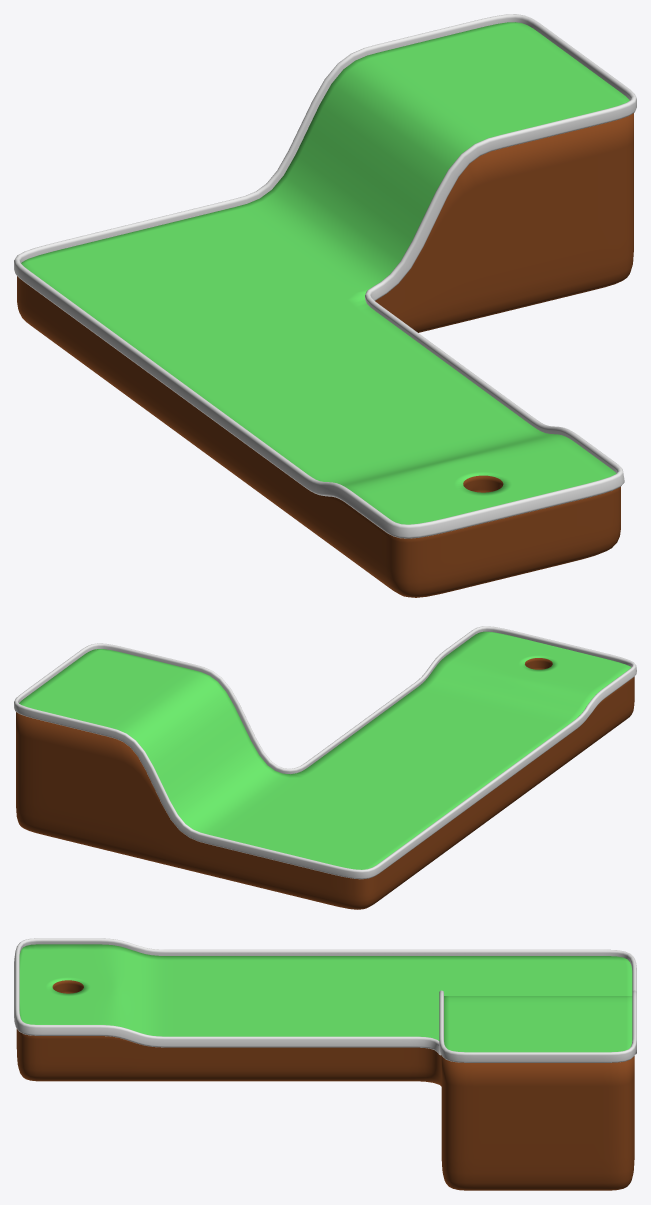
3 views of the same model, one above another, from view 1: azimuth 30°, elevation 25°; view 2: azimuth 150°, elevation 25°; view 3: azimuth 270°, elevation 25° (orthographic). The views are drawn at different scales.
Parts seen in each view (by area): view 1: MiniCourse; view 2: MiniCourse; view 3: MiniCourse.
Part boxes in pixels (x1,y1,x2,y2): MiniCourse: (14, 14, 636, 597); MiniCourse: (14, 626, 636, 909); MiniCourse: (14, 938, 636, 1190).
Bounding box in the file's own units: 18.2 × 6.22 × 24.2.
